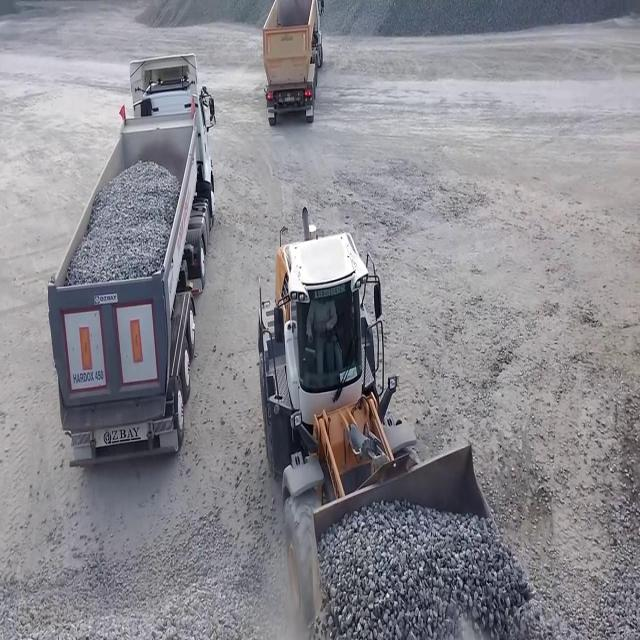bull_dozer/loader/grader: (256, 208, 516, 639)
dump_truck: (46, 51, 218, 469), (262, 0, 324, 128)
